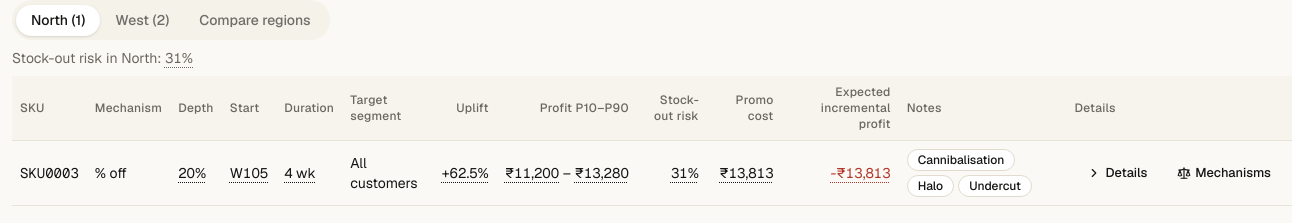
Test: RegionPlanTabs › compares the same SKU side by side across regions
The image size is (1292, 223).
Click the tab "Compare regions": [255, 20] box x1=184 y1=4 x2=326 y2=36
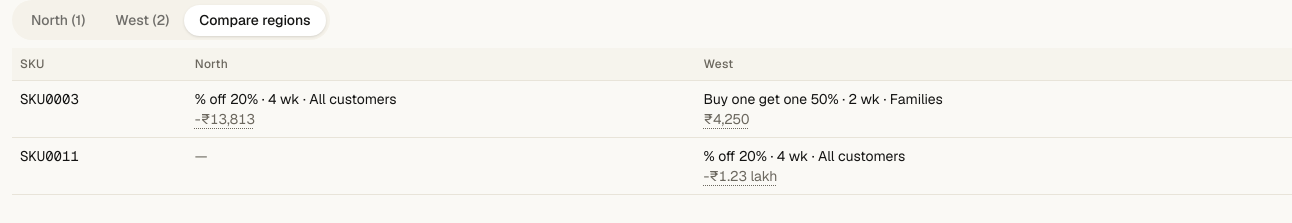
Expected: the column headings read "SKU", "North", "West", in this order, x1=12 y1=48 x2=187 y2=80; x1=187 y1=48 x2=696 y2=80; x1=696 y1=48 x2=1291 y2=80
